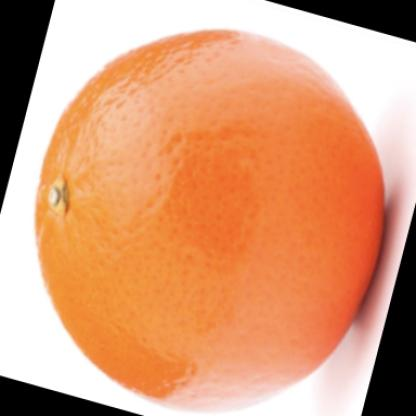fresh: (36, 28, 383, 405)
